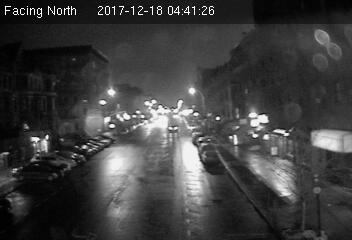car: (201, 149, 220, 166), (166, 122, 179, 133)
